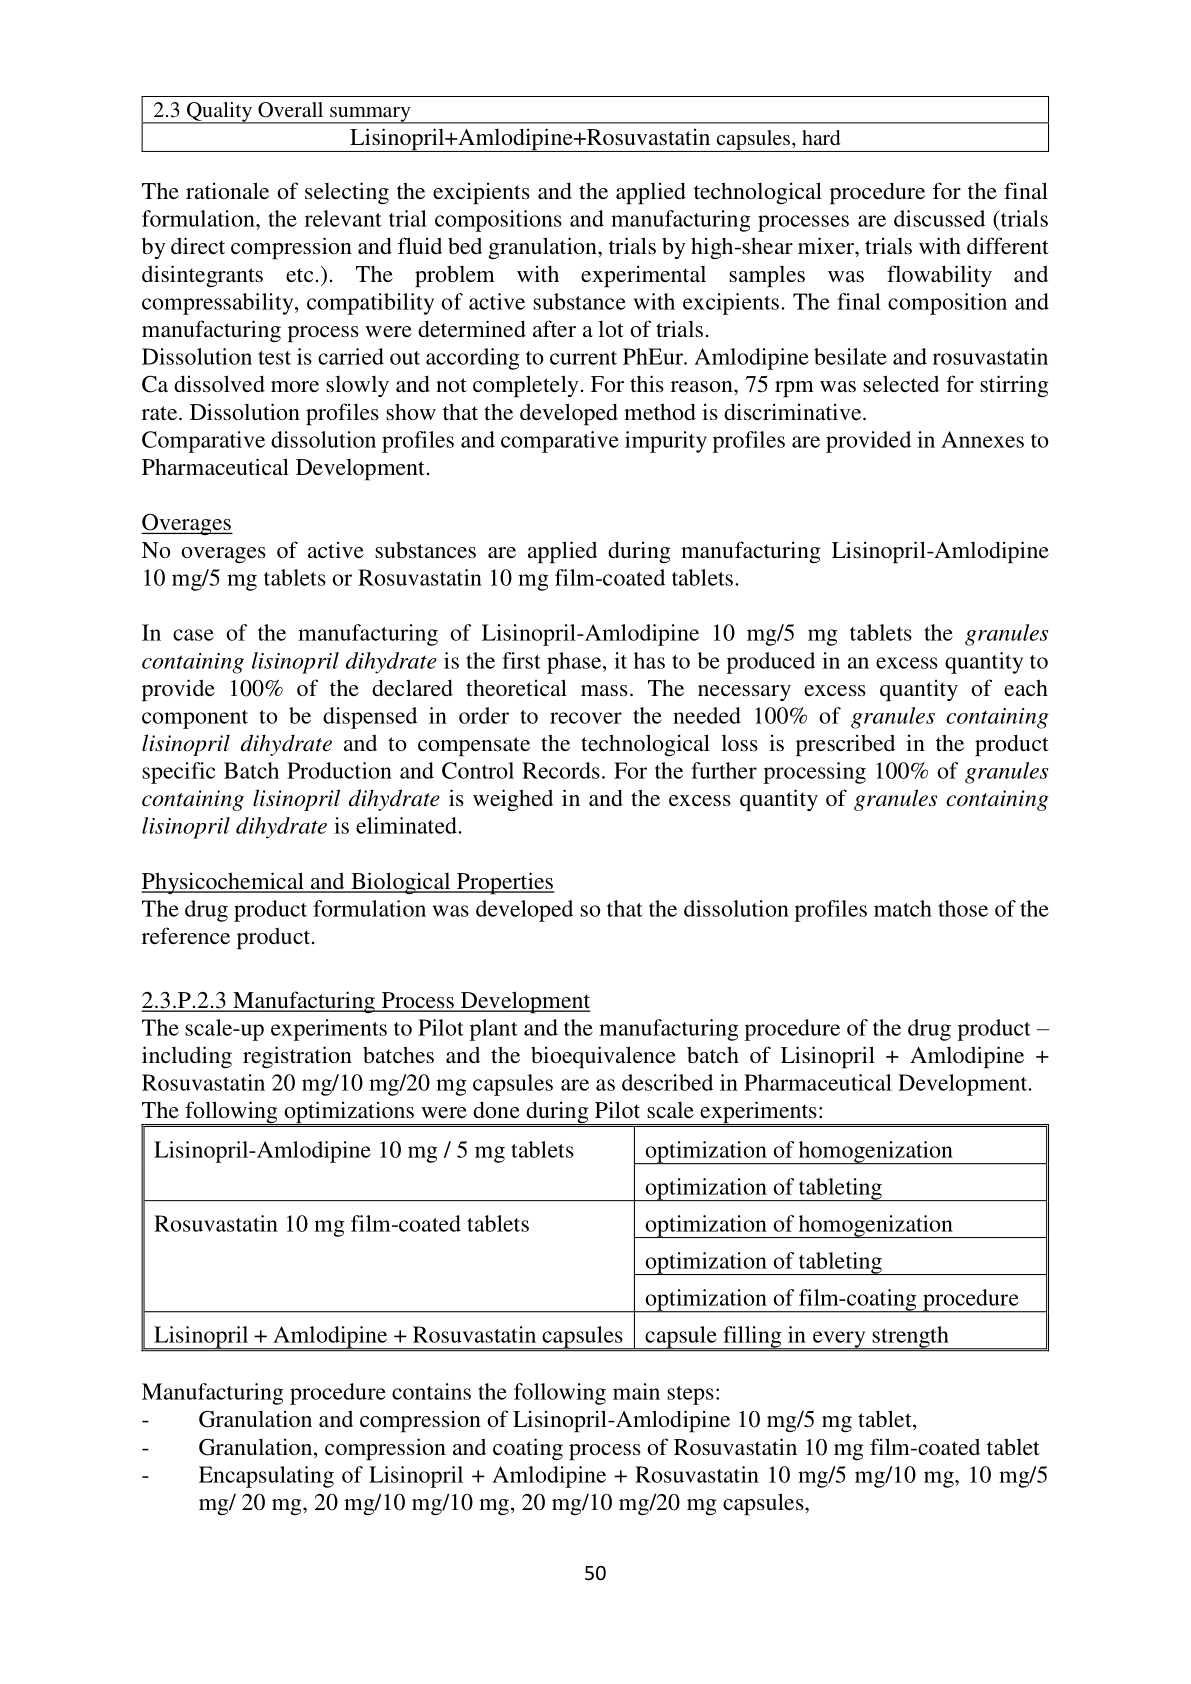full_lined: (140, 95, 1051, 153)
merged_cells: (140, 1124, 1051, 1352)
